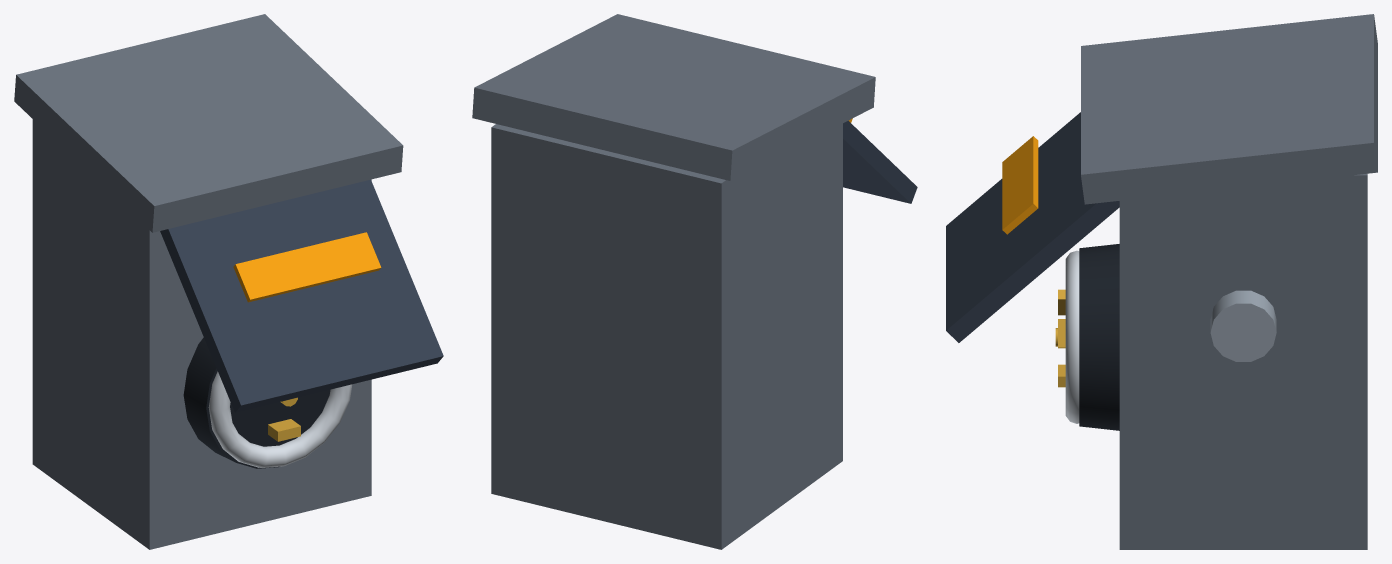
The picture shows the model from 3 angles, left to right: view 1: azimuth 30°, elevation 25°; view 2: azimuth 150°, elevation 25°; view 3: azimuth 270°, elevation 25°; orthographic projection. The views are drawn at different scales.
Parts seen in each view (by area): view 1: cad-generator-inlet-50a; view 2: cad-generator-inlet-50a; view 3: cad-generator-inlet-50a.
Part boxes in pixels (<box>): cad-generator-inlet-50a: <box>14,14,443,549</box>; cad-generator-inlet-50a: <box>472,14,917,549</box>; cad-generator-inlet-50a: <box>946,14,1377,549</box>.
Bounding box in the file's own units: 0.135 × 0.1934 × 0.1828.
